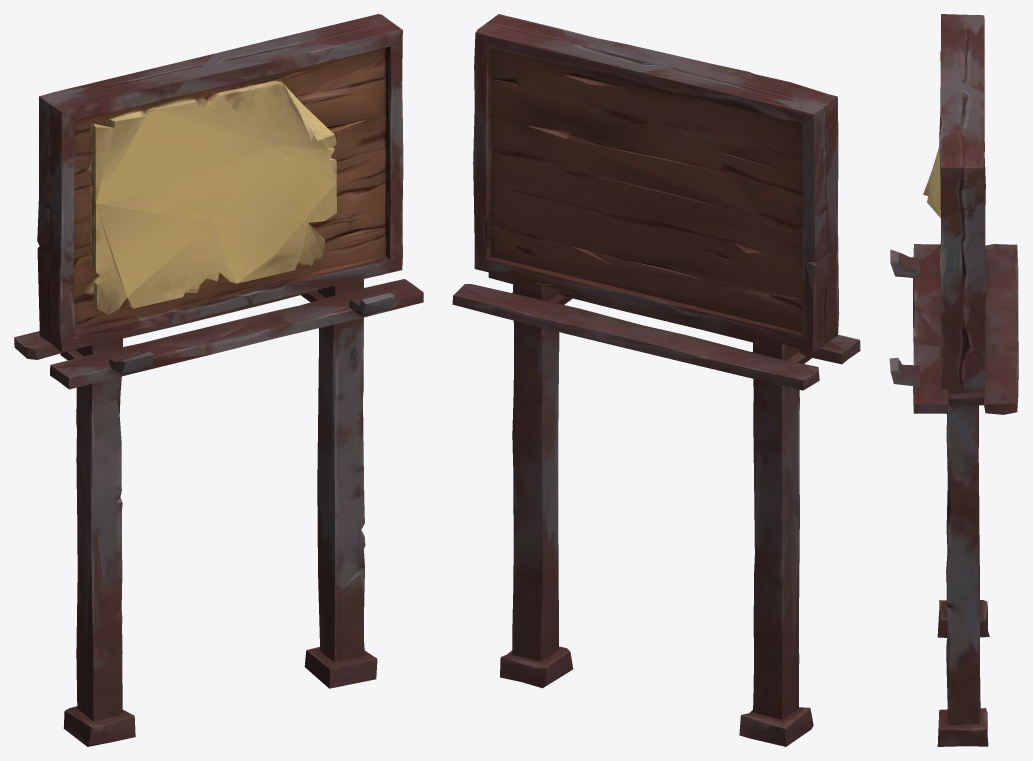
File: bg_city_billboard_1_lod0.glb
3 renders of one model, left to right at view 1: azimuth 30°, elevation 25°; view 2: azimuth 150°, elevation 25°; view 3: azimuth 270°, elevation 25°, orthographic. The views are drawn at different scales.
Visible parts, largest first — view 1: body; view 2: body; view 3: body.
Boxes of the visible parts, x1,y1,x2,y2 form: body: [14, 14, 423, 746]; body: [452, 14, 860, 746]; body: [889, 14, 1018, 746].
Bounding box in the file's own units: 3.46 × 5.99 × 1.18.
1 material, 1 textured.
